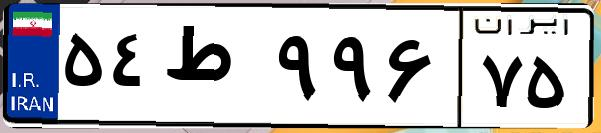4: (110, 28, 158, 98)
5: (57, 26, 110, 100), (525, 38, 570, 115)
6: (385, 28, 445, 110)
7: (475, 38, 525, 113)
9: (270, 28, 330, 110), (330, 28, 385, 110)
ط: (158, 20, 270, 120)
